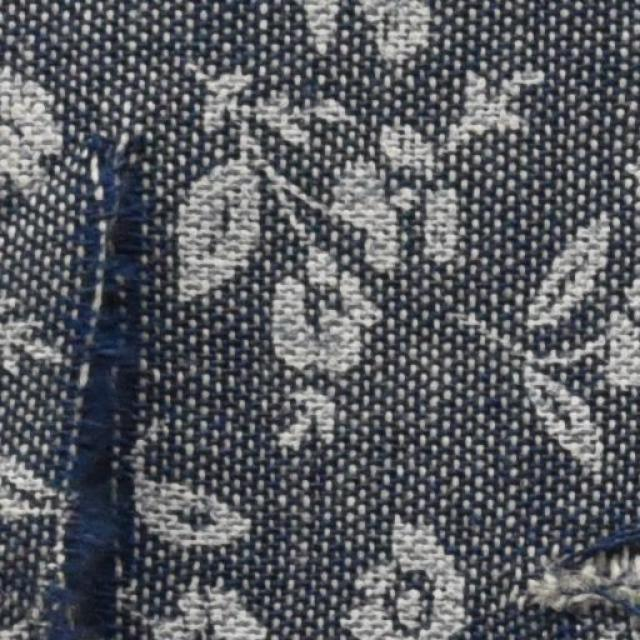Snag: (42, 128, 157, 639), (517, 519, 639, 639)
